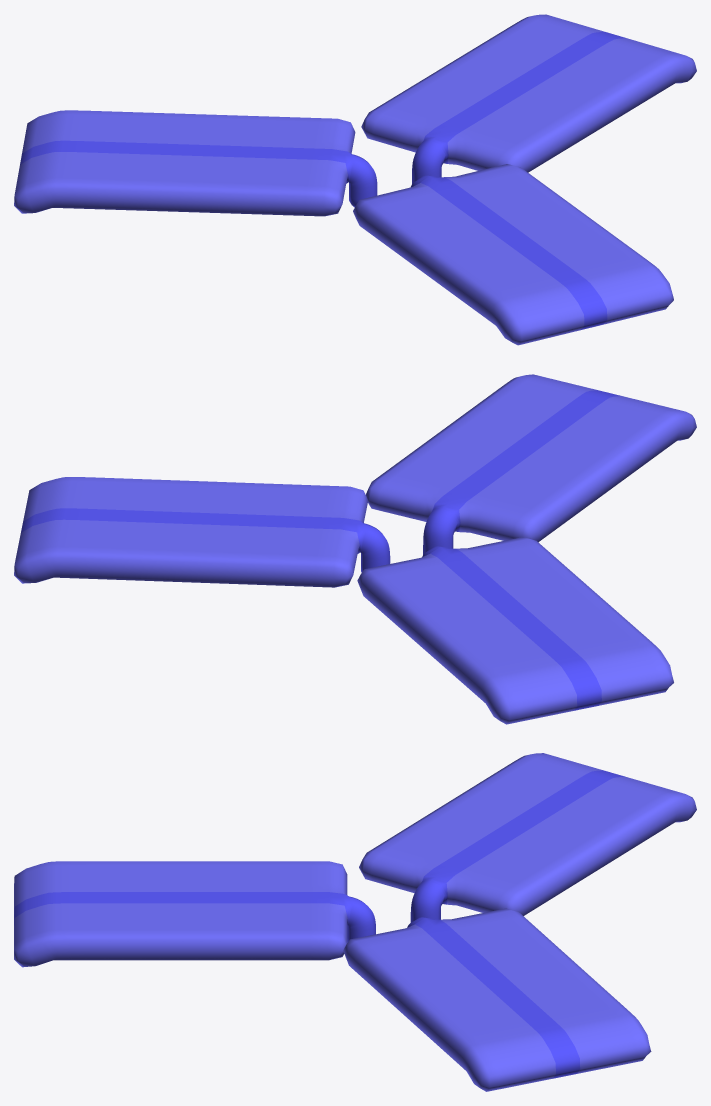
The model's file is big leaf.fbx.
The picture shows the model from 3 angles, top to bottom: view 1: azimuth 30°, elevation 25°; view 2: azimuth 150°, elevation 25°; view 3: azimuth 270°, elevation 25°; orthographic projection. The views are drawn at different scales.
Visible parts, largest first — view 1: big_leaf3; view 2: big_leaf3; view 3: big_leaf3.
Boxes of the visible parts, x1,y1,x2,y2 form: big_leaf3: (14,14,696,345); big_leaf3: (14,374,696,724); big_leaf3: (14,753,696,1091).
Bounding box in the file's own units: 10.51 × 0.8 × 9.46.
